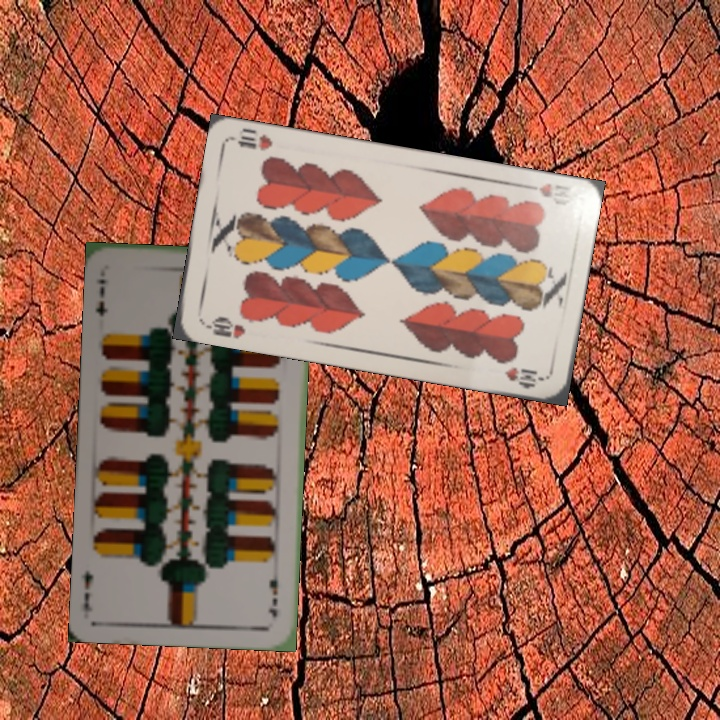E7: (264, 565, 281, 621), (91, 275, 111, 318)
H10: (200, 312, 248, 341), (518, 179, 555, 200)
